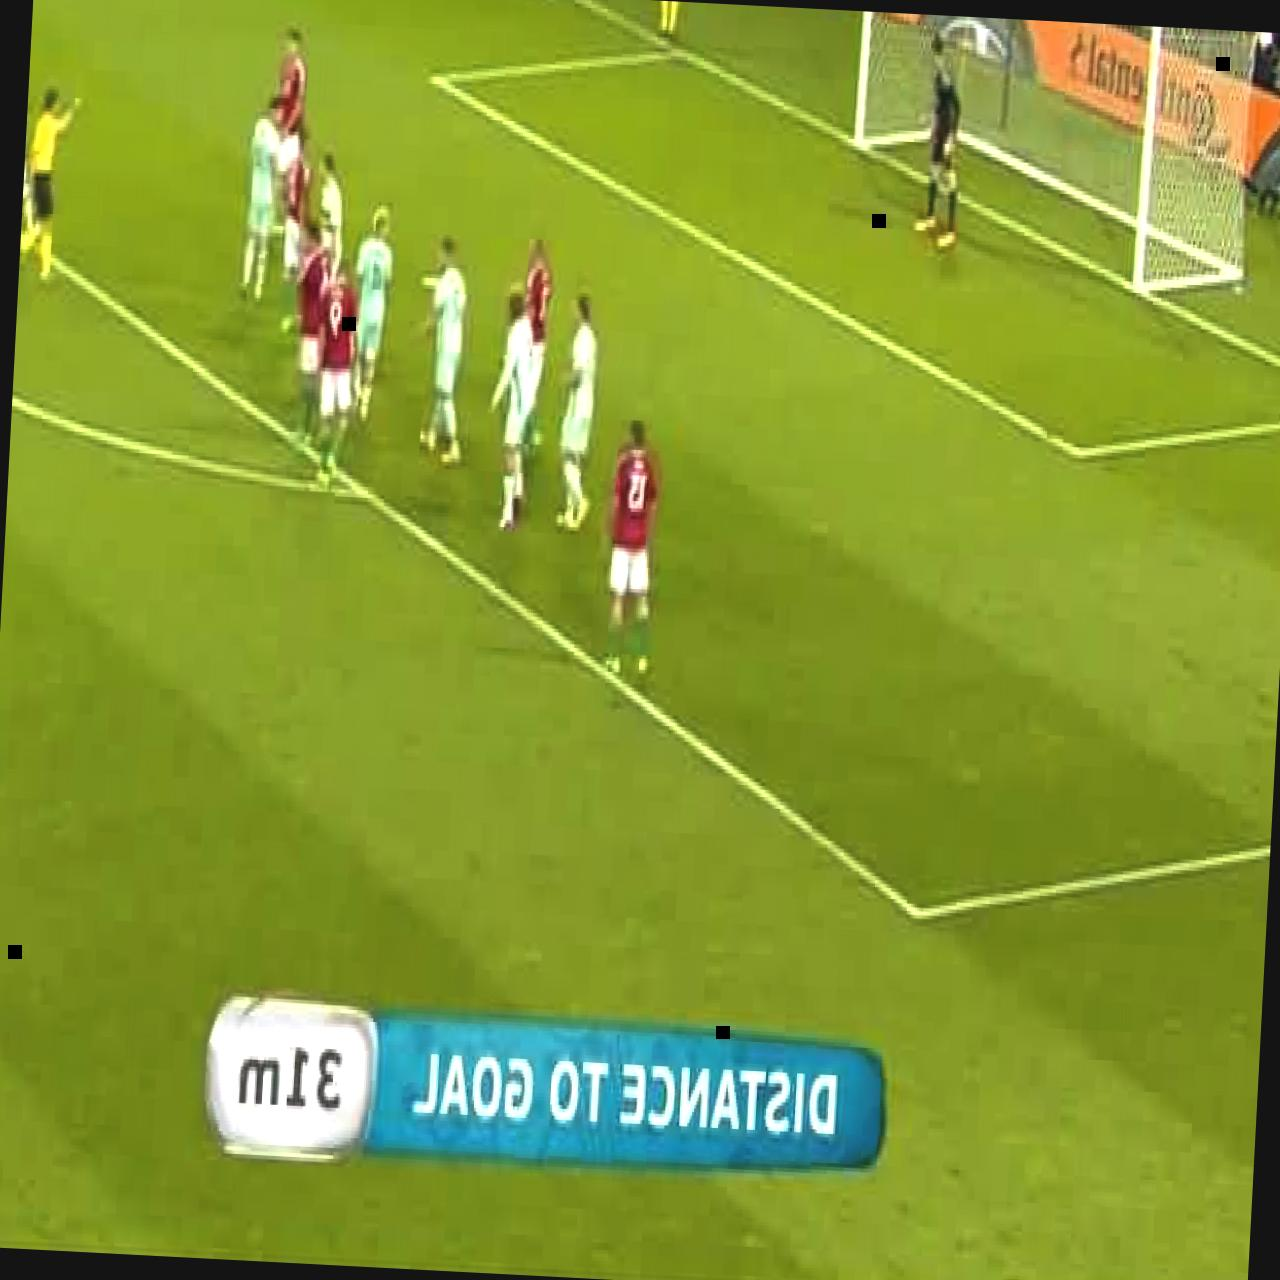football: (600, 418, 664, 678), (418, 235, 477, 471), (18, 77, 82, 288), (487, 286, 538, 528), (311, 249, 359, 496), (914, 28, 966, 250), (555, 288, 602, 528), (348, 198, 396, 420), (238, 100, 286, 300), (512, 239, 556, 454), (289, 222, 329, 450), (276, 128, 320, 332), (269, 22, 307, 236), (311, 153, 348, 330), (20, 47, 46, 231), (655, 1, 692, 38)
